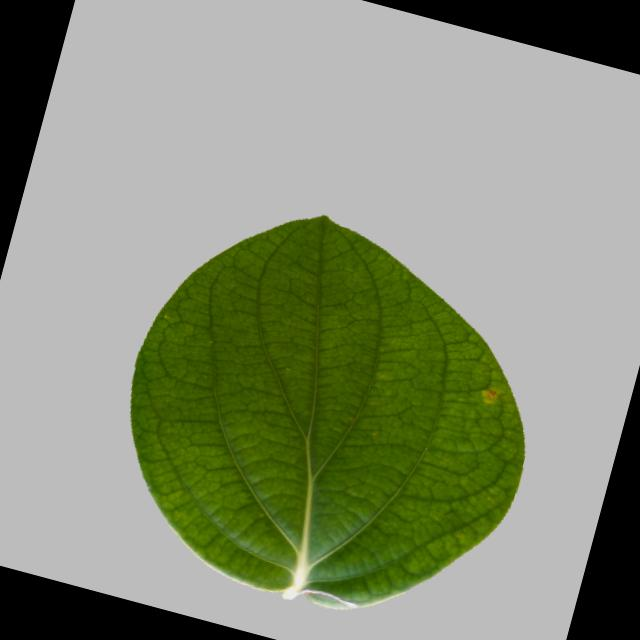healthy: (75, 169, 588, 640)
